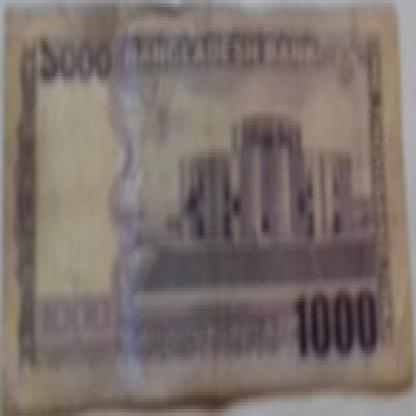One Thousand taka: (290, 291, 382, 371), (36, 31, 114, 90)
